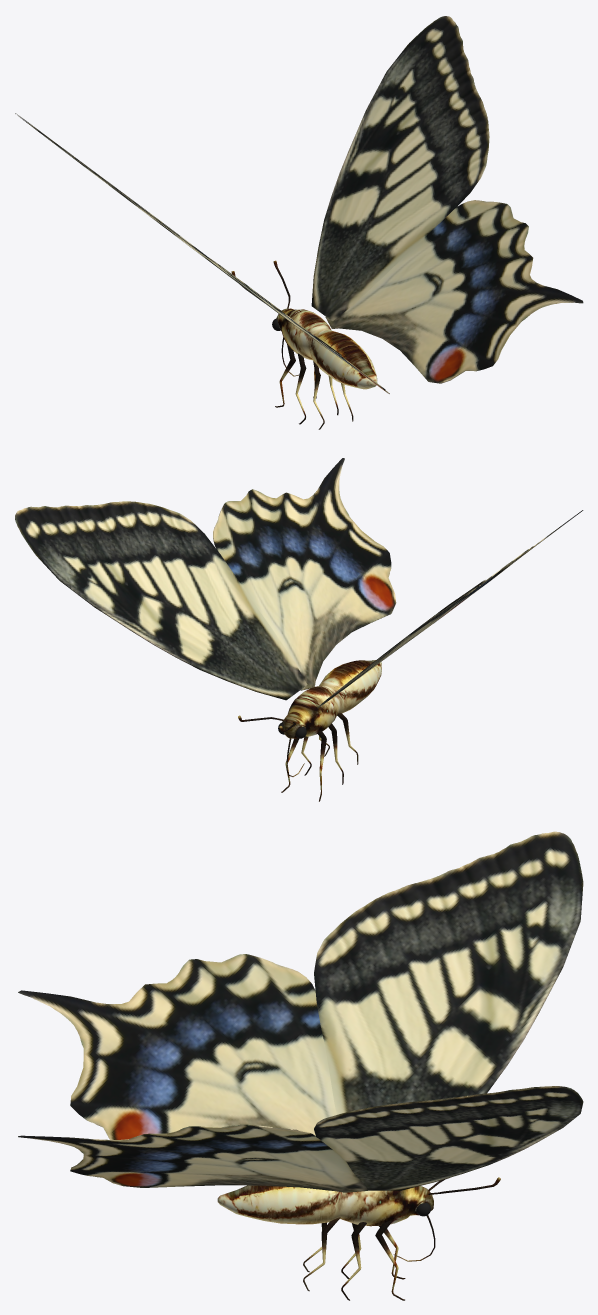
File: insect_butterfly.fbx
3 views of the same model, one above another, from view 1: azimuth 30°, elevation 25°; view 2: azimuth 150°, elevation 25°; view 3: azimuth 270°, elevation 25° (orthographic). The views are drawn at different scales.
Parts seen in each view (by area): view 1: insect_butterfly_right_wing, insect_butterfly_body, insect_butterfly_left_wing, insect_buttefly_legs; view 2: insect_butterfly_right_wing, insect_butterfly_body, insect_butterfly_left_wing, insect_buttefly_legs; view 3: insect_butterfly_left_wing, insect_butterfly_right_wing, insect_butterfly_body, insect_buttefly_legs.
Part boxes in pixels (box(x1,y1,x2,y2)): insect_butterfly_right_wing: box(311, 16, 583, 383); insect_butterfly_body: box(272, 308, 377, 389); insect_butterfly_left_wing: box(15, 113, 389, 393); insect_buttefly_legs: box(275, 344, 353, 429); insect_butterfly_right_wing: box(15, 458, 396, 700); insect_butterfly_body: box(278, 660, 381, 738); insect_butterfly_left_wing: box(316, 510, 583, 708); insect_buttefly_legs: box(281, 712, 358, 801); insect_butterfly_left_wing: box(18, 831, 583, 1139); insect_butterfly_right_wing: box(18, 1086, 583, 1192); insect_butterfly_body: box(217, 1185, 433, 1226); insect_buttefly_legs: box(303, 1217, 405, 1300).
Bounding box in the file's own units: 0.2442 × 0.1569 × 0.2387.
3 materials, 2 textured.
